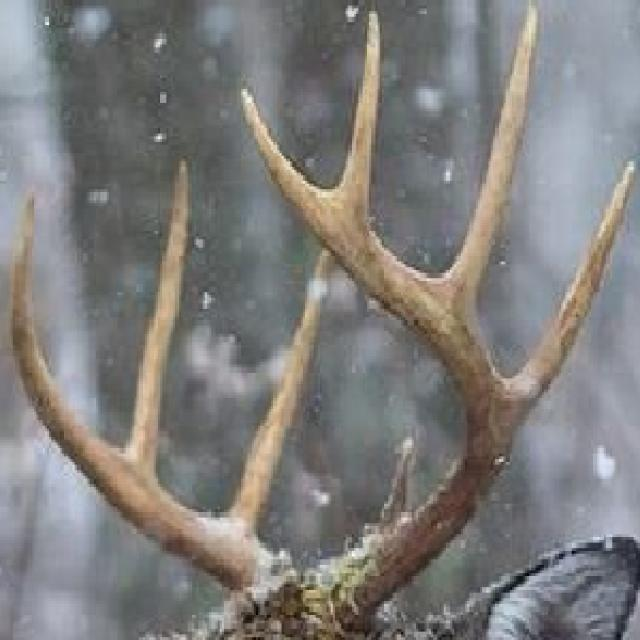L-F: (240, 87, 512, 632)
L-G1: (374, 434, 417, 525)
L-G2: (504, 154, 638, 451)
L-G3: (432, 2, 541, 335)
L-G4: (330, 1, 384, 225)
R-F: (10, 190, 295, 593)
R-G1: (216, 248, 333, 546)
R-G2: (123, 152, 190, 484)
